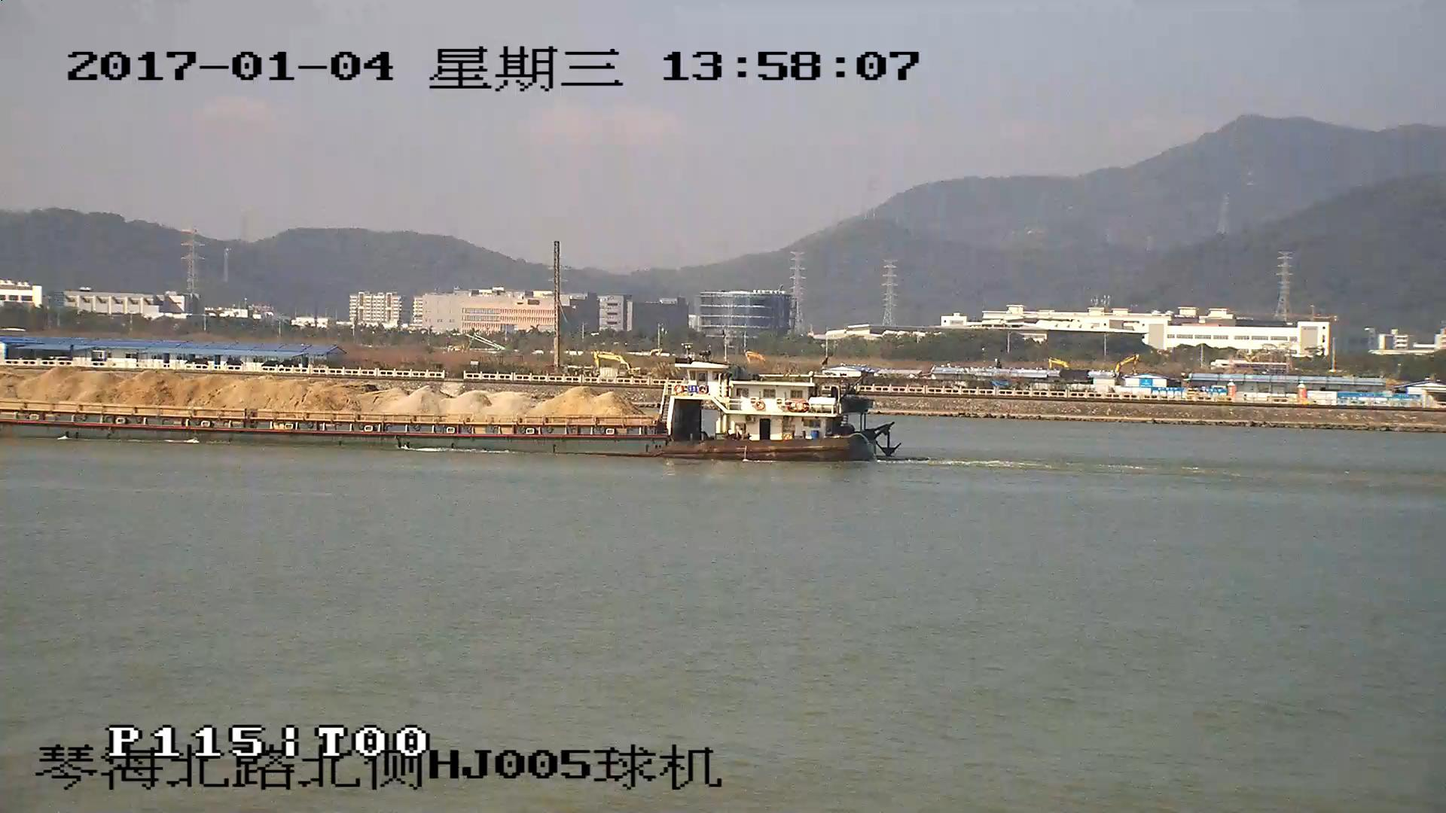ore carrier: (0, 359, 897, 462)
